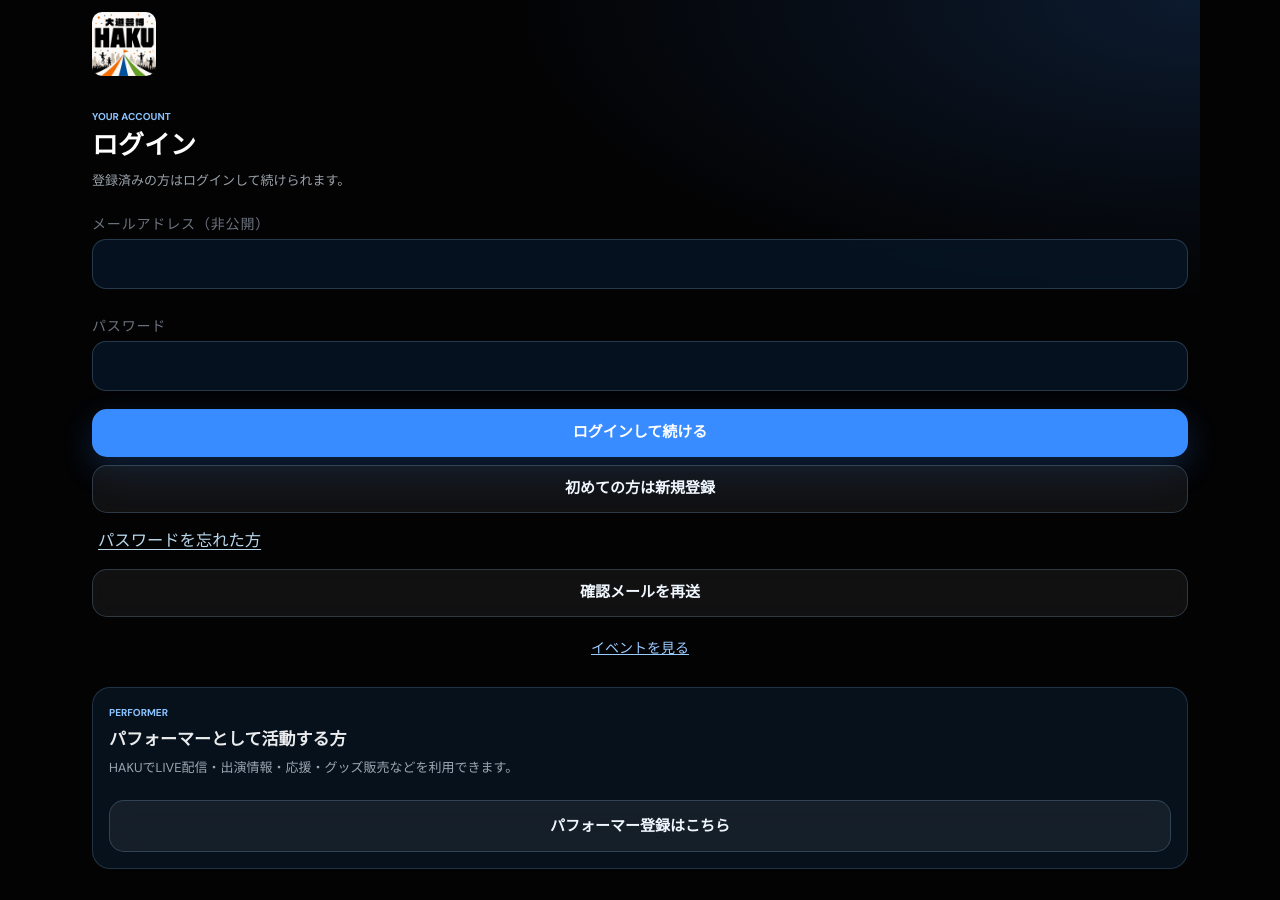
Test: smartphone performer registration › does not offer office privileges during public signup
Click the button "初めての方は新規登録" at coordinates (640, 489), box [92,465,1188,513]
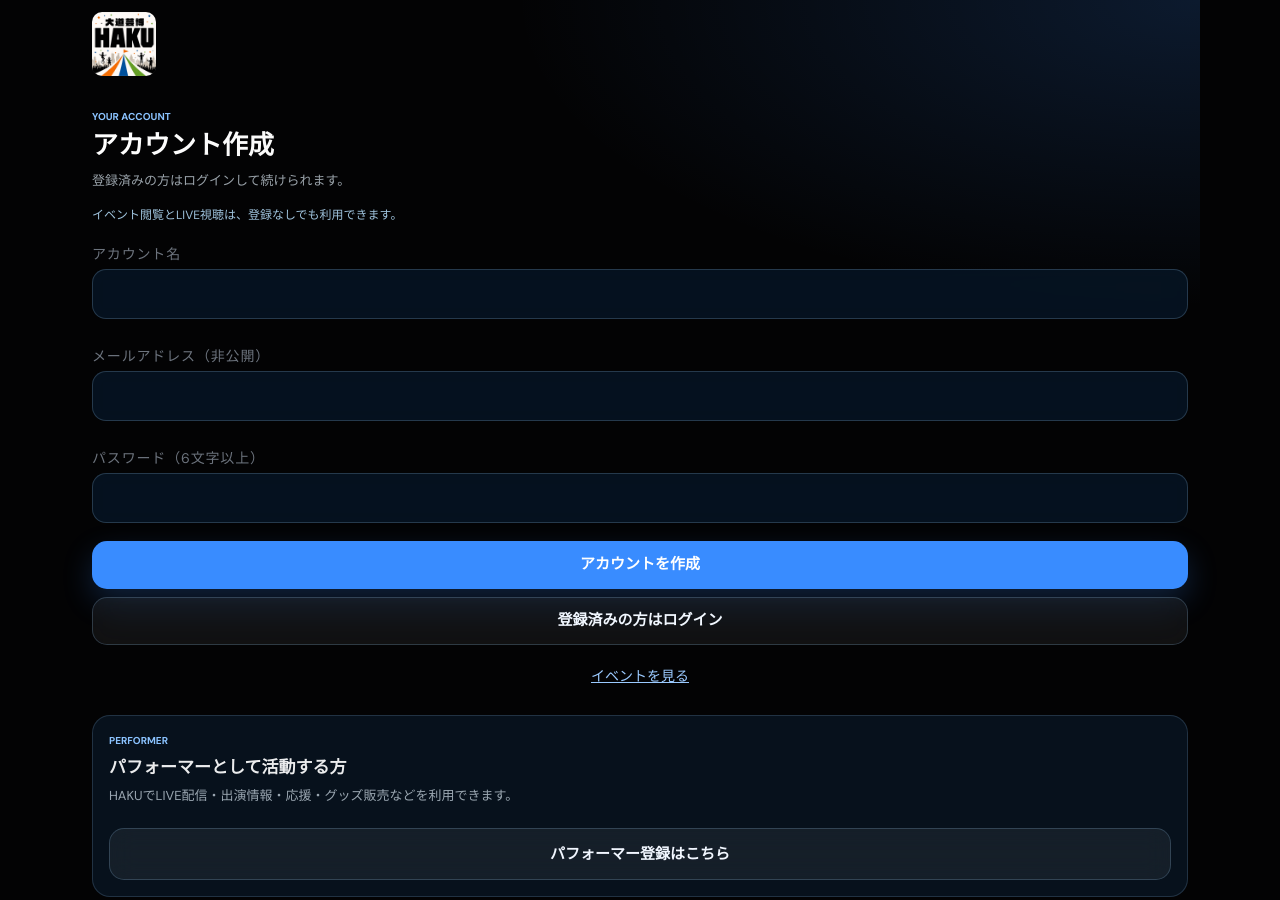
Expected: the link "パフォーマー登録はこちら" is shown, [109,828,1171,880]
Result: the heading "アカウント作成" is shown at [92,128,1188,163]
